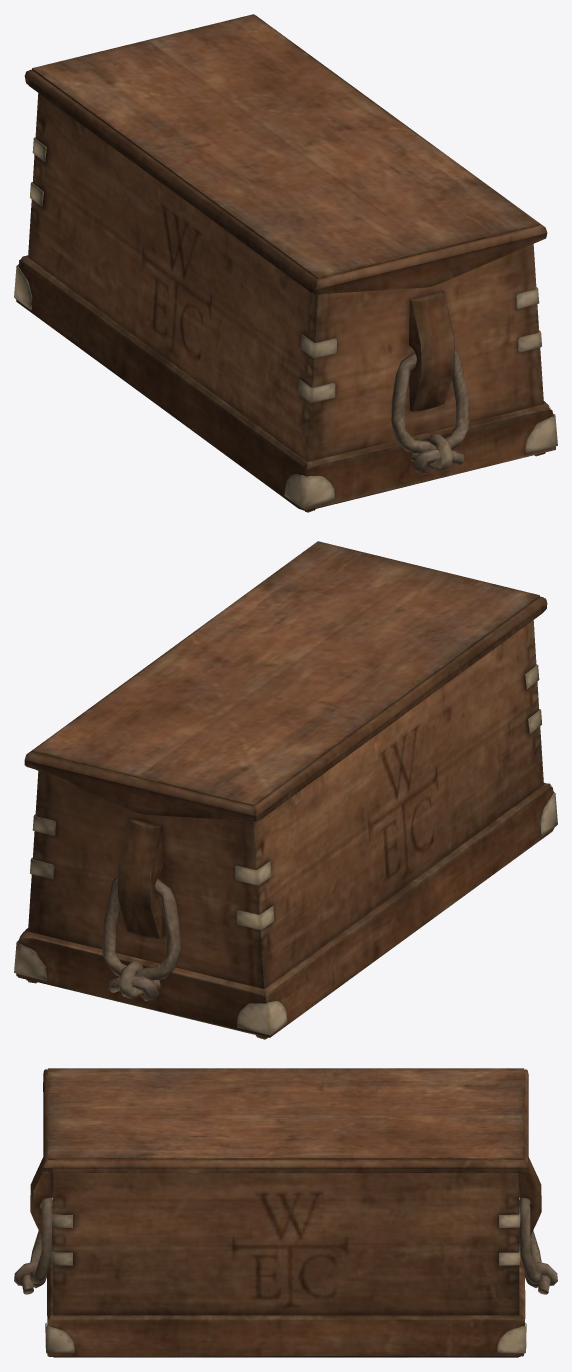
File: wooden_crate_02.glb
3 views of the same model, one above another, from view 1: azimuth 30°, elevation 25°; view 2: azimuth 150°, elevation 25°; view 3: azimuth 270°, elevation 25° (orthographic). The views are drawn at different scales.
Visible parts, largest first — view 1: wooden_crate_02_crate; view 2: wooden_crate_02_crate; view 3: wooden_crate_02_crate.
Boxes of the visible parts, left/top/right/bottom form: wooden_crate_02_crate: left=14, top=14, right=557, bottom=512; wooden_crate_02_crate: left=14, top=541, right=557, bottom=1039; wooden_crate_02_crate: left=14, top=1068, right=557, bottom=1357.
Size of the model in its own units: 0.5291 by 0.4641 by 1.17.
1 material, 1 textured.
